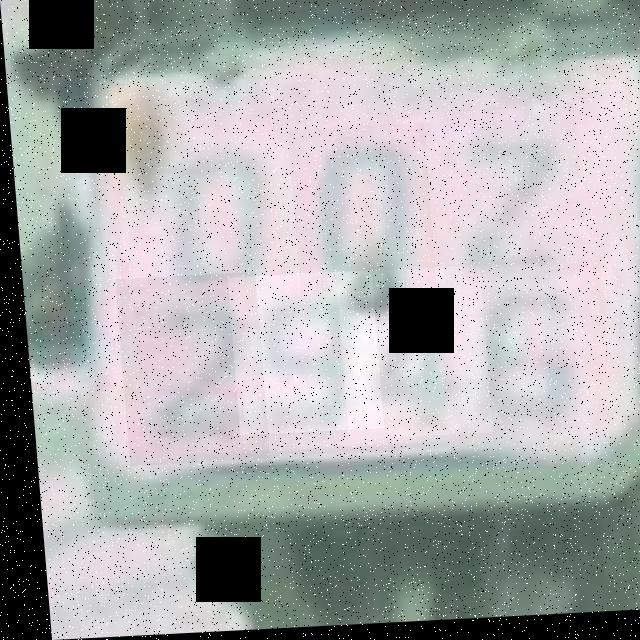2: (111, 275, 263, 467)
6: (438, 265, 602, 447), (331, 270, 485, 443)
9: (222, 273, 377, 439)
O: (141, 121, 292, 303), (285, 127, 432, 297)
Z: (417, 122, 583, 283)
